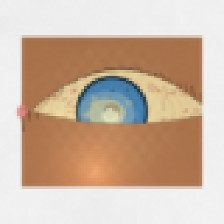corneal_ulcer: (76, 89, 137, 137)
